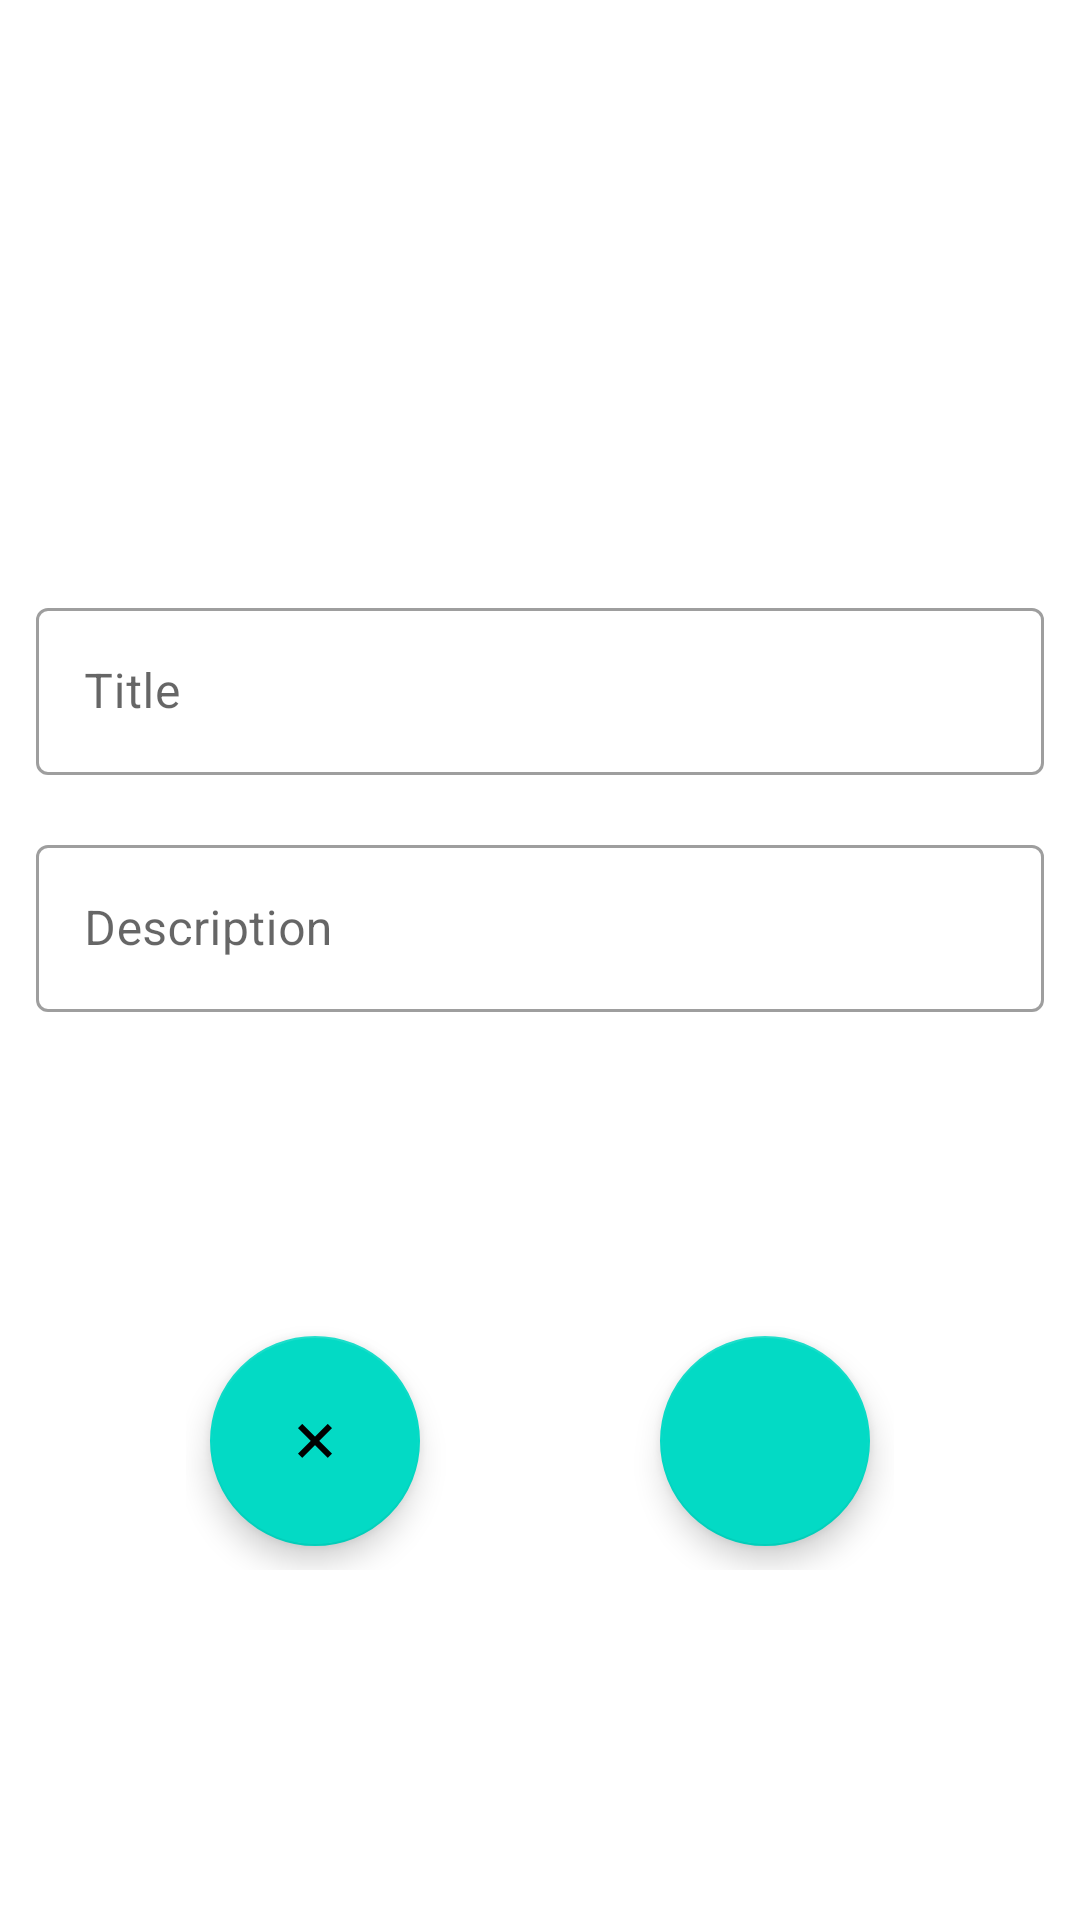

Named icons in this screenshot (1080 × 1920) and their bounding boxes, (x1, y1, x2, y2):
cancel: (210, 1336, 420, 1546)
